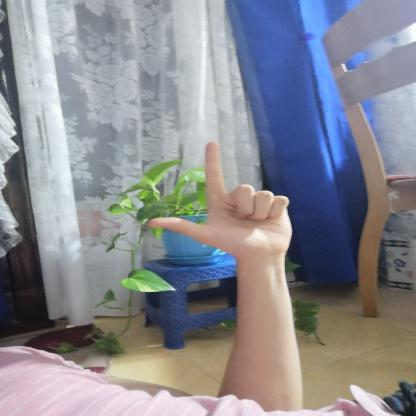LAAM: (131, 135, 306, 265)
